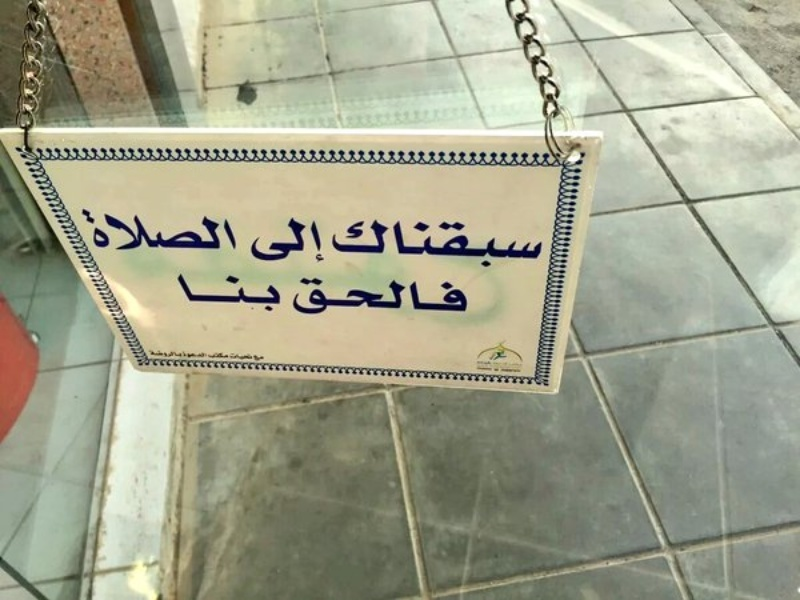text: (337, 215, 352, 269), (353, 215, 368, 269), (369, 215, 384, 269), (385, 215, 400, 269), (401, 215, 416, 269), (417, 215, 432, 269), (433, 215, 448, 269), (449, 215, 464, 269), (465, 215, 480, 269), (481, 215, 496, 269), (497, 215, 512, 269), (513, 215, 528, 269), (529, 215, 544, 269), (257, 217, 272, 265), (273, 217, 288, 265), (289, 217, 304, 265), (305, 217, 320, 265), (81, 207, 96, 253), (97, 207, 112, 253), (113, 207, 128, 253), (129, 207, 144, 253), (145, 207, 160, 253), (161, 207, 176, 253), (177, 207, 192, 253), (193, 207, 208, 253), (209, 207, 224, 253), (225, 207, 240, 253), (177, 273, 192, 314), (193, 273, 208, 314), (209, 273, 224, 314), (225, 273, 240, 314), (241, 273, 256, 314), (257, 273, 272, 314), (289, 278, 304, 316), (305, 278, 320, 316), (321, 278, 336, 316), (337, 278, 352, 316), (353, 278, 368, 316), (369, 278, 384, 316), (385, 278, 400, 316), (401, 278, 416, 316), (417, 278, 432, 316), (433, 278, 448, 316), (449, 278, 464, 316), (247, 217, 256, 265), (273, 273, 283, 314), (321, 217, 329, 265), (330, 215, 336, 269), (465, 278, 473, 316), (75, 207, 80, 253), (161, 349, 176, 361), (177, 349, 192, 361), (193, 349, 208, 361), (209, 349, 224, 361), (225, 349, 240, 361), (241, 349, 256, 361), (481, 362, 496, 374), (497, 362, 512, 374), (147, 349, 160, 361), (513, 362, 523, 374), (545, 215, 547, 269), (257, 349, 266, 361), (474, 362, 480, 374), (241, 207, 242, 253), (175, 273, 176, 314)
